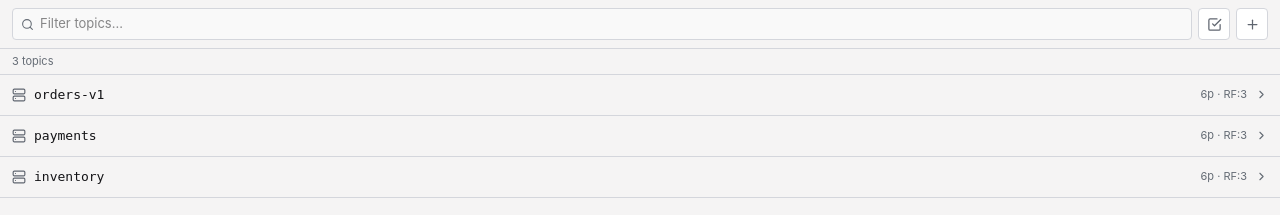
Test: [@topic-list] search and filter › filters topic rows by search query (case-insensitive)
Type "ORDERS" into the field labelled "Filter topics" at {"x": 612, "y": 24}, box [40,14,1183,34]
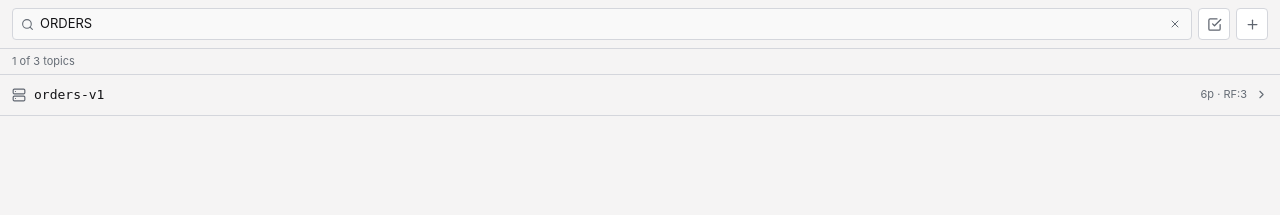
expect the text "orders-v1" is shown: met, box [34,87,104,102]
expect the text "payments" is gone: met
expect the text "inventory" is gone: met
